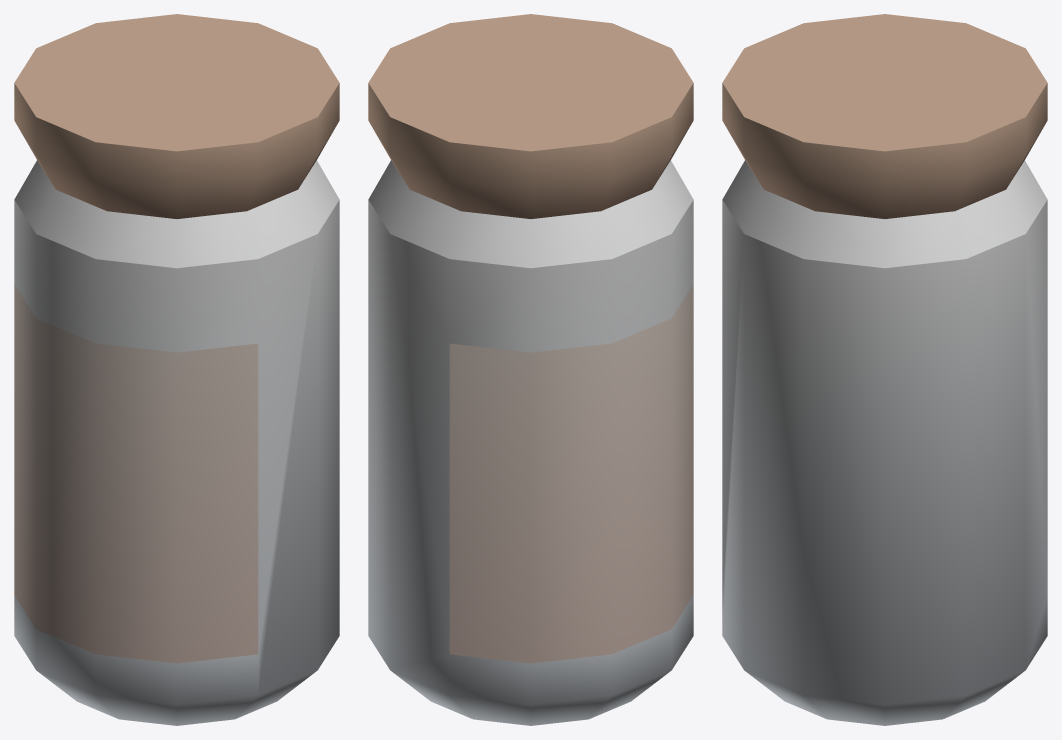
The model's file is jar-tall.glb.
3 views of the same model, side by side, from view 1: azimuth 30°, elevation 25°; view 2: azimuth 150°, elevation 25°; view 3: azimuth 270°, elevation 25° (orthographic).
Parts seen in each view (by area): view 1: jar-tall; view 2: jar-tall; view 3: jar-tall.
Boxes of the visible parts, x1,y1,x2,y2 form: jar-tall: [14, 14, 339, 725]; jar-tall: [368, 14, 693, 725]; jar-tall: [722, 14, 1047, 725].
Size of the model in its own units: 0.1433 by 0.2889 by 0.1433.
